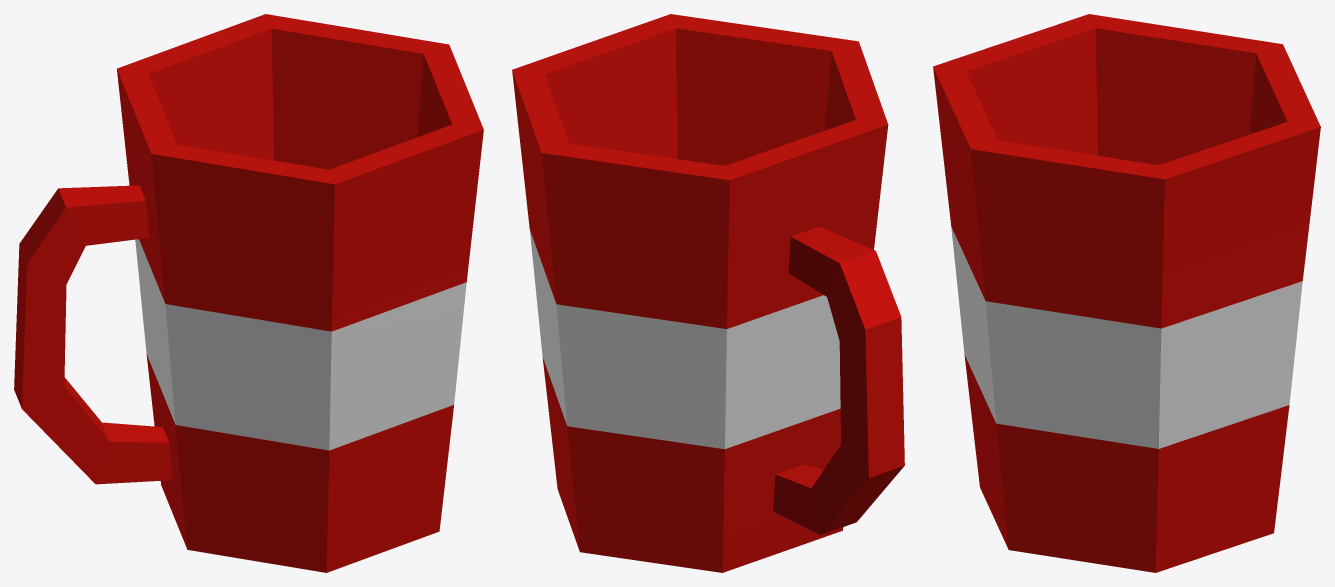
Rendered from H_Mug_3.fbx.
3 views of the same model, side by side, from view 1: azimuth 30°, elevation 25°; view 2: azimuth 150°, elevation 25°; view 3: azimuth 270°, elevation 25° (orthographic).
Visible parts, largest first — view 1: H_Mug_3; view 2: H_Mug_3; view 3: H_Mug_3.
Boxes of the visible parts, left/top/right/bottom form: H_Mug_3: left=14, top=14, right=483, bottom=572; H_Mug_3: left=512, top=14, right=904, bottom=572; H_Mug_3: left=933, top=14, right=1320, bottom=572.
Bounding box in the file's own units: 72.98 × 59.39 × 69.87.
